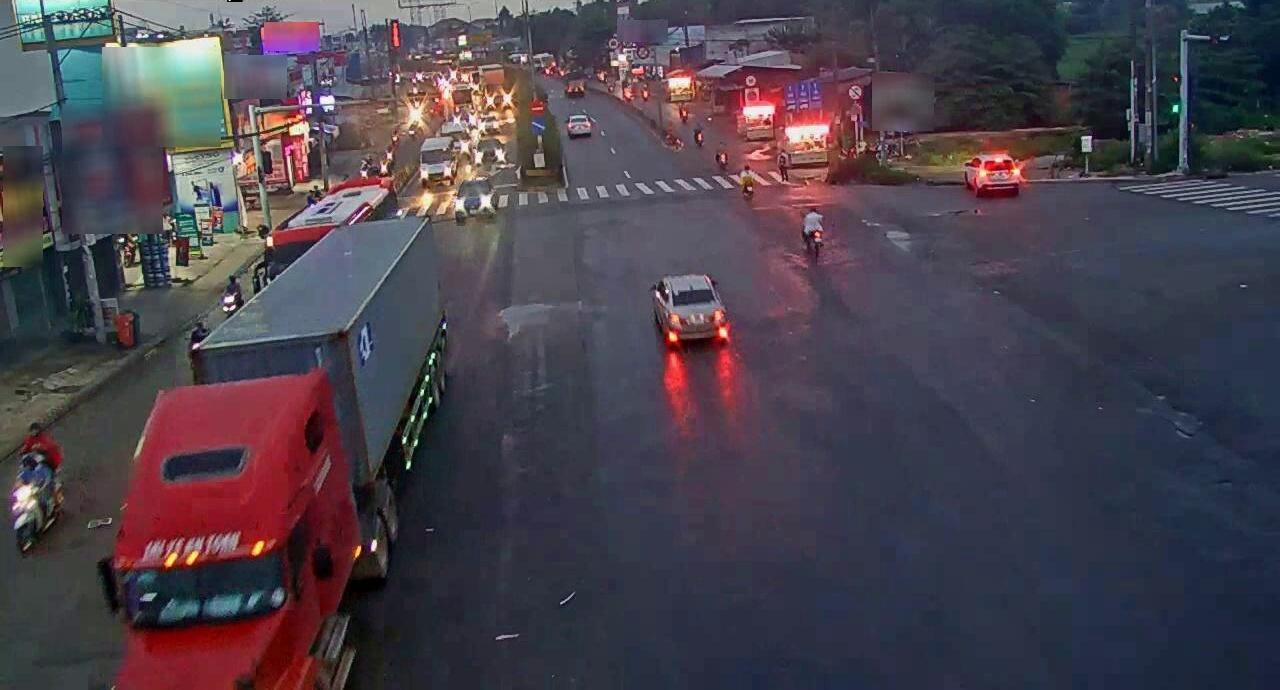xe container: (103, 215, 443, 690)
xe hoi: (646, 266, 737, 358)
xe may: (795, 208, 828, 255)
